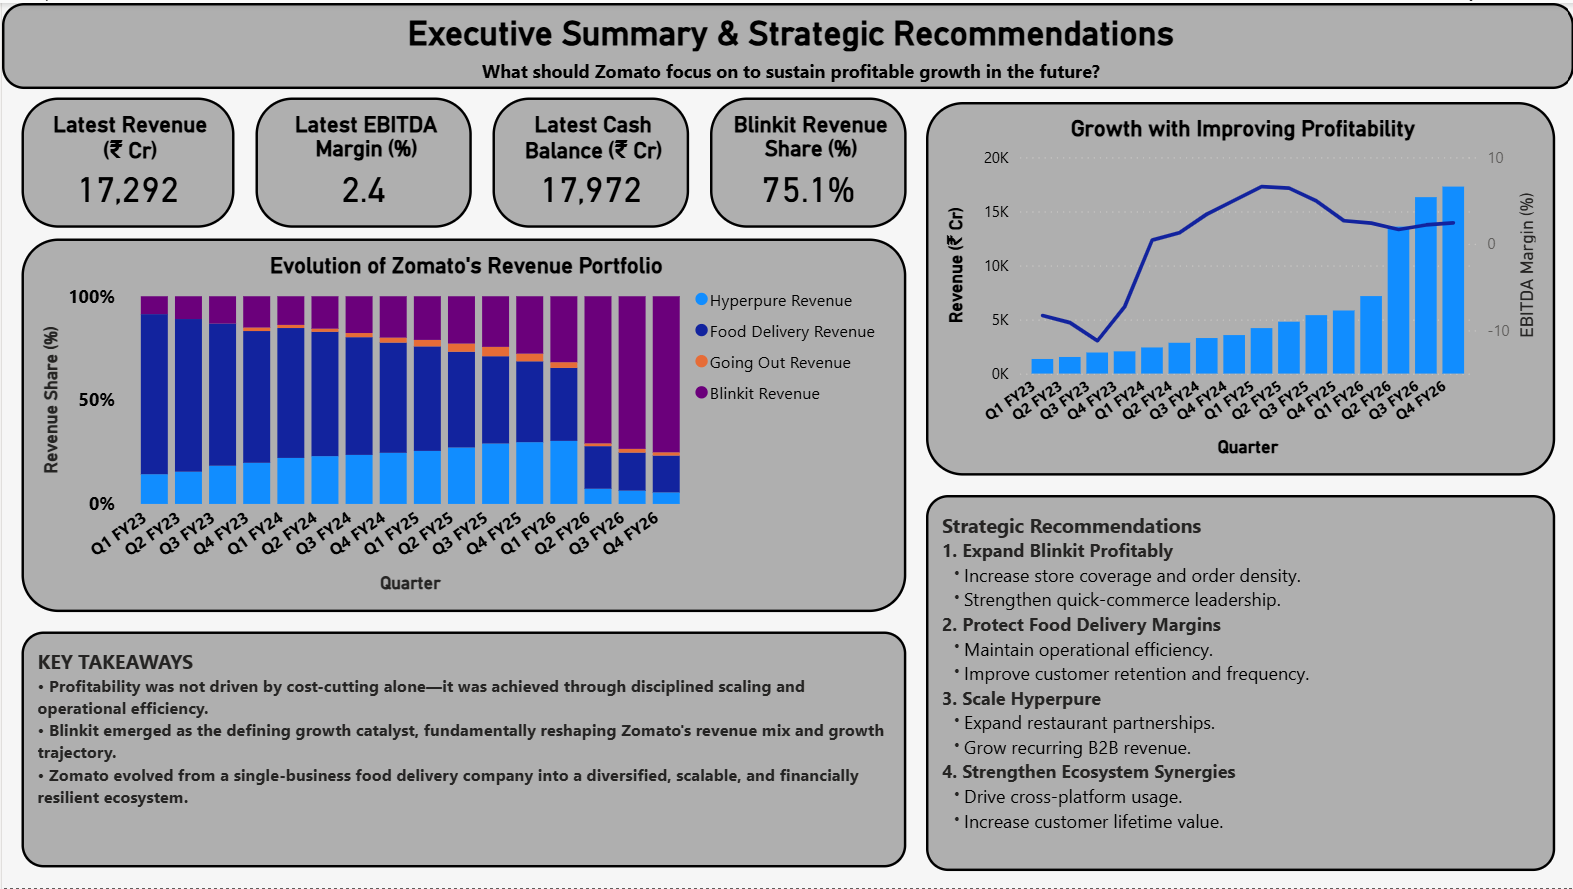

What the dashboard file says about the page in this screenshot:
{"tool":"powerbi","page":{"name":"Executive Summary","canvas":[1280,720],"ordinal":3},"visuals":[{"type":"textbox","title":"Executive Summary & Strategic Recommendations","box":[0,0,1280,70],"z":0},{"type":"card","title":"Latest Revenue (₹ Cr)","fields":{"Values":["public zomato_dashboard_view.Latest Revenue"]},"box":[16,77,173,106],"z":1000},{"type":"card","title":"Latest EBITDA Margin (%)","fields":{"Values":["public zomato_dashboard_view.Latest EBITDA Margin"]},"box":[206,77,176,106],"z":2000},{"type":"card","title":"Blinkit Revenue Share (%)","fields":{"Values":["EBITDA_Mix.Blinkit Revenue Share %"]},"box":[576,77,160,106],"z":3000},{"type":"card","title":"Latest Cash Balance (₹ Cr)","fields":{"Values":["public zomato_dashboard_view.Latest Cash Balance"]},"box":[399,77,160,106],"z":4000},{"type":"hundredPercentStackedColumnChart","title":"Evolution of Zomato''s Revenue Portfolio","fields":{"Category":["public zomato_dashboard_view.quarter"],"Y":["Sum(public zomato_dashboard_view.hyperpure_revenue)","Sum(public zomato_dashboard_view.food_delivery_revenue)","Sum(public zomato_dashboard_view.goingout_revenue)","Sum(public zomato_dashboard_view.blinkit_revenue)"]},"box":[16,192,720,304],"z":5000},{"type":"lineClusteredColumnComboChart","title":"Growth with Improving Profitability","fields":{"Category":["public zomato_dashboard_view.quarter"],"Y2":["Sum(public zomato_dashboard_view.ebitda_margin)"],"Y":["Sum(public zomato_dashboard_view.revenue)"]},"box":[752,80,512,304],"z":6000},{"type":"textbox","box":[752,400,512,306],"z":6001},{"type":"textbox","box":[16,512,720,192],"z":6002}]}

Visuals, with their boxes in screenshot pixels (x1, y1, x2, y2), scaled from the page's 1280x720 canvas onto the 1573x889 screenshot:
"Executive Summary & Strategic Recommendations" textbox: 0,0,1572,86
"Latest Revenue (₹ Cr)" card: 20,95,232,226
"Latest EBITDA Margin (%)" card: 253,95,469,226
"Blinkit Revenue Share (%)" card: 708,95,904,226
"Latest Cash Balance (₹ Cr)" card: 490,95,687,226
"Evolution of Zomato''s Revenue Portfolio" hundredPercentStackedColumnChart: 20,237,904,612
"Growth with Improving Profitability" lineClusteredColumnComboChart: 924,99,1553,474
textbox: 924,494,1553,872
textbox: 20,632,904,869
